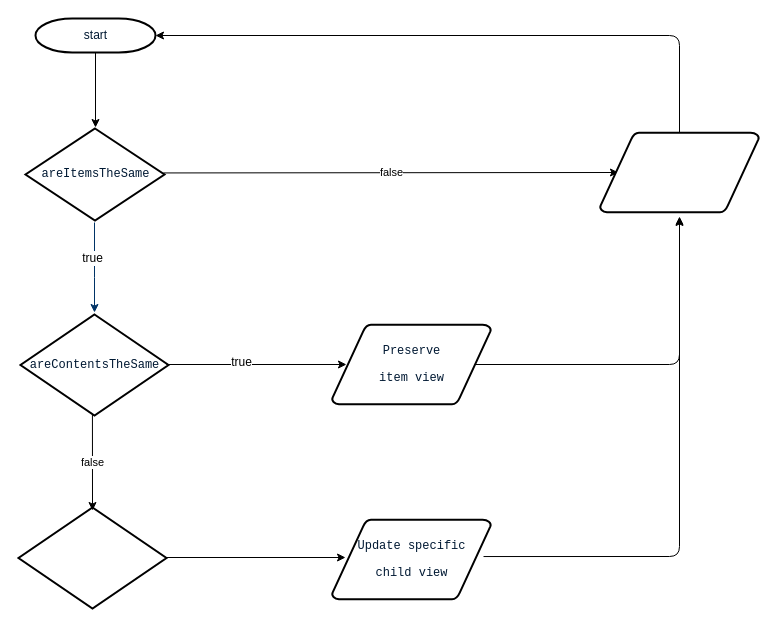
The diagram is 777 pixels wide and 626 high, and some of its shapes have lost their labels. Here are the shapes that lost their labels. From the top down, the box of each, then its label:
(598, 131, 760, 213): Continue list comparisons
(17, 506, 167, 609): getChangePayload
